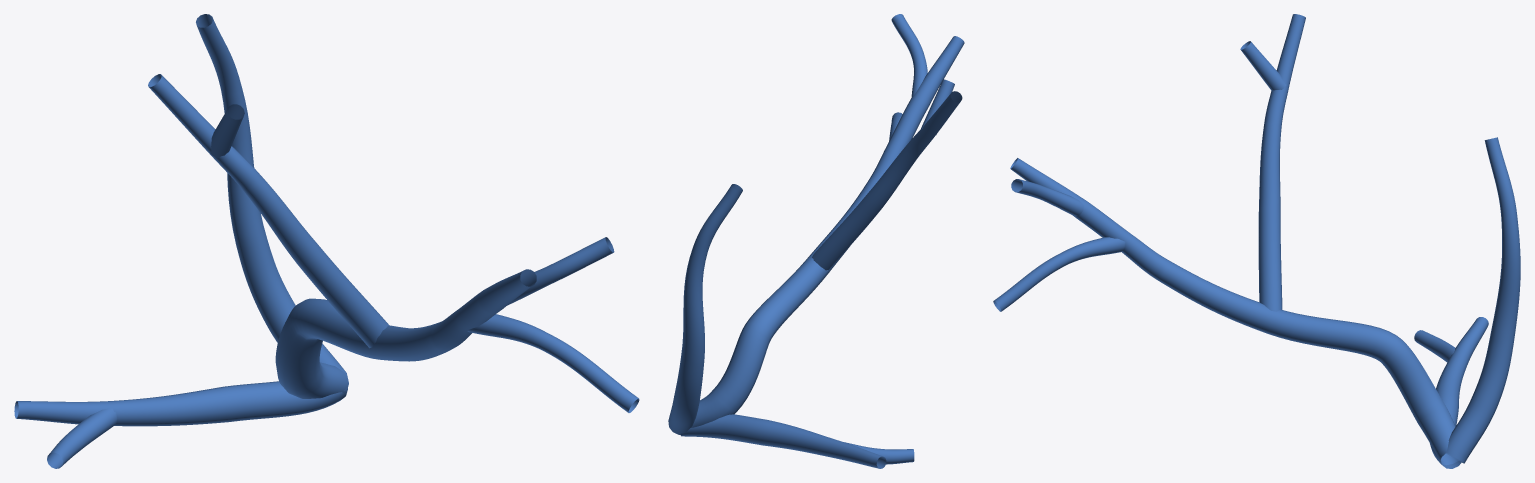
The picture shows the model from 3 angles, left to right: view 1: azimuth 30°, elevation 25°; view 2: azimuth 150°, elevation 25°; view 3: azimuth 270°, elevation 25°; orthographic projection. The views are drawn at different scales.
Visible parts, largest first — view 1: 右肺后静脉; view 2: 右肺后静脉; view 3: 右肺后静脉.
Part boxes in pixels (bbox=[...]): 右肺后静脉: bbox=[14, 14, 639, 468]; 右肺后静脉: bbox=[668, 14, 964, 468]; 右肺后静脉: bbox=[993, 14, 1520, 468].
Bounding box in the file's own units: 0.0601 × 0.0843 × 0.1139.
